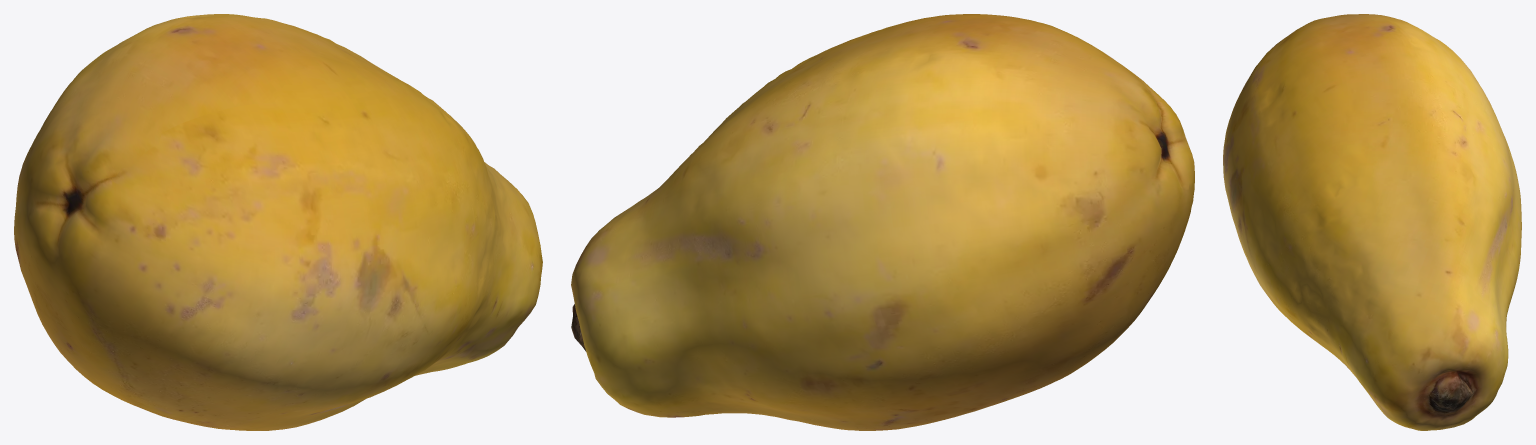
The model's file is 静物_水果_Papaya 3D photogrammetry_opt.glb.
3 views of the same model, side by side, from view 1: azimuth 30°, elevation 25°; view 2: azimuth 150°, elevation 25°; view 3: azimuth 270°, elevation 25° (orthographic). The views are drawn at different scales.
Visible parts, largest first — view 1: mamao1001; view 2: mamao1001; view 3: mamao1001.
Part boxes in pixels (<box>): mamao1001: <box>14,14,542,430</box>; mamao1001: <box>571,14,1194,430</box>; mamao1001: <box>1223,14,1521,430</box>.
Size of the model in its own units: 0.1361 by 0.1 by 0.0907.
1 material, 1 textured.
